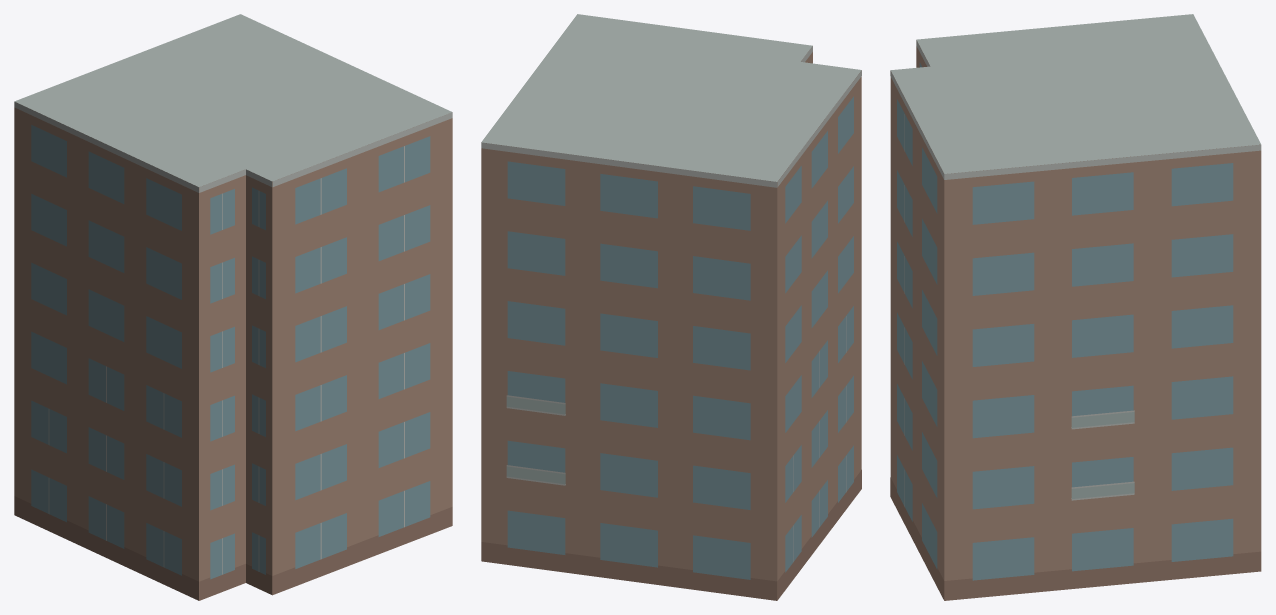
File: survey-upis-32527575.glb
3 views of the same model, side by side, from view 1: azimuth 30°, elevation 25°; view 2: azimuth 150°, elevation 25°; view 3: azimuth 270°, elevation 25° (orthographic). The views are drawn at different scales.
Visible parts, largest first — view 1: survey-upis-32527575.tmp; view 2: survey-upis-32527575.tmp; view 3: survey-upis-32527575.tmp.
Boxes of the visible parts, x1,y1,x2,y2 form: survey-upis-32527575.tmp: (14,14,452,600); survey-upis-32527575.tmp: (481,14,861,600); survey-upis-32527575.tmp: (890,14,1261,600).
Size of the model in its own units: 13.92 by 17.3 by 13.63.
